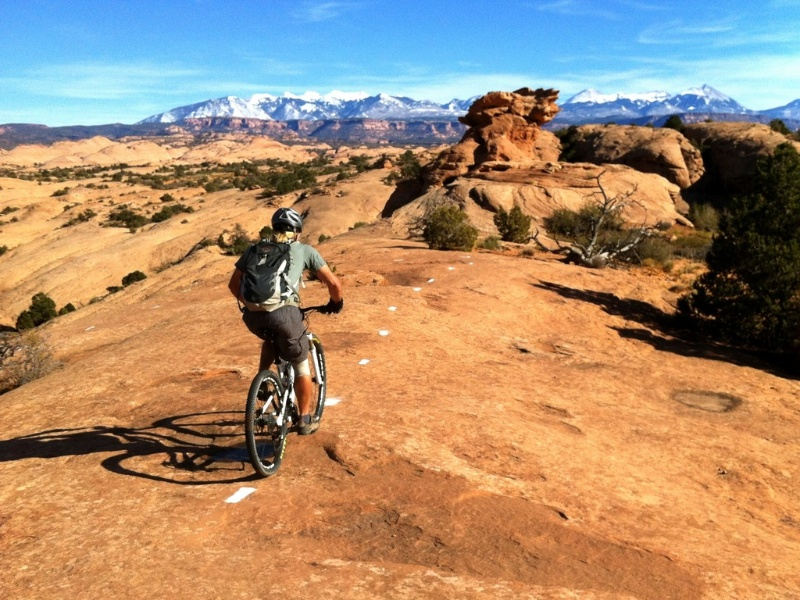bicycle: (227, 299, 344, 474)
